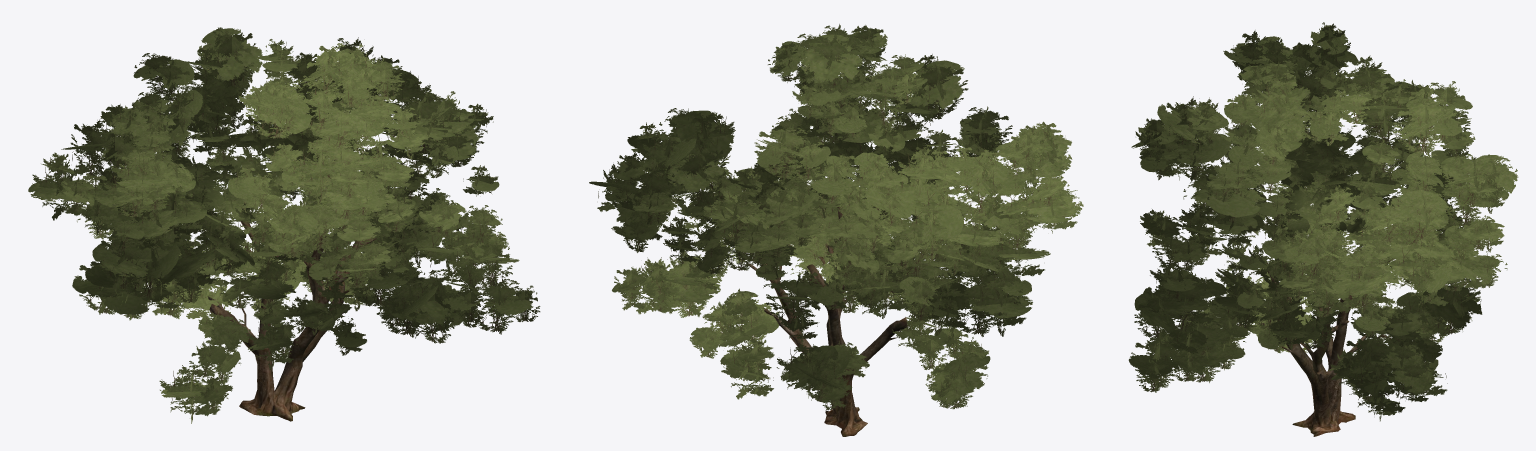
The model's file is tree_broad_far.glb.
3 views of the same model, side by side, from view 1: azimuth 30°, elevation 25°; view 2: azimuth 150°, elevation 25°; view 3: azimuth 270°, elevation 25° (orthographic). The views are drawn at different scales.
Visible parts, largest first — view 1: tree_broad_far; view 2: tree_broad_far; view 3: tree_broad_far.
Boxes of the visible parts, bbox=[...] form: tree_broad_far: bbox=[28, 27, 540, 423]; tree_broad_far: bbox=[589, 24, 1083, 436]; tree_broad_far: bbox=[1128, 22, 1518, 436].
Size of the model in its own units: 25.76 by 19.84 by 19.59.
Materials: 2 (2 with a texture image).
